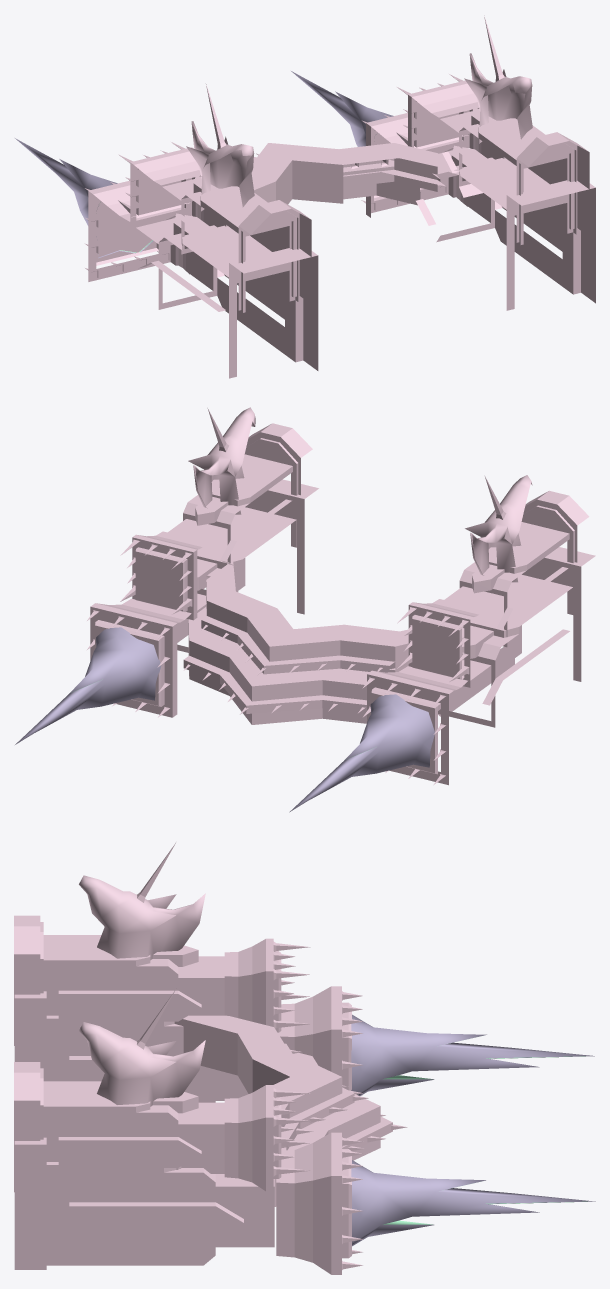
3 views of the same model, one above another, from view 1: azimuth 30°, elevation 25°; view 2: azimuth 150°, elevation 25°; view 3: azimuth 270°, elevation 25° (orthographic). The views are drawn at different scales.
Visible parts, largest first — view 1: Object74; view 2: Object74; view 3: Object74.
Boxes of the visible parts, x1,y1,x2,y2 form: Object74: (15, 15, 595, 378); Object74: (15, 407, 595, 812); Object74: (14, 843, 595, 1274).
Bounding box in the file's own units: 33835 × 22072 × 43845.
